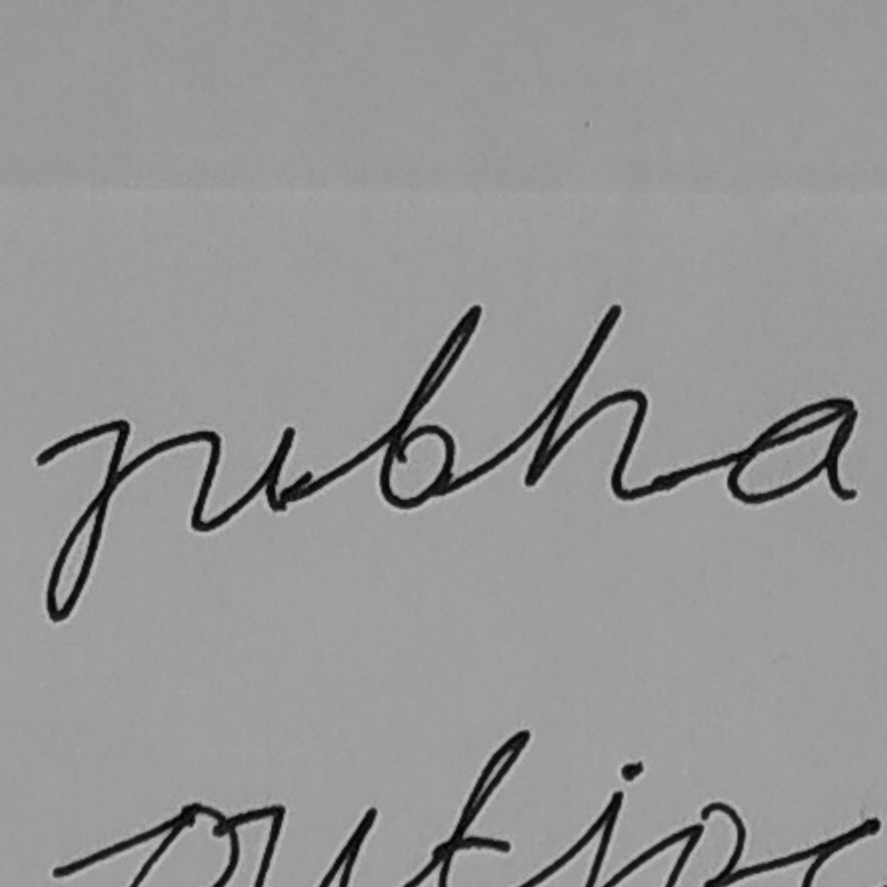a: (721, 393, 864, 512)
b: (374, 299, 485, 511)
h: (522, 300, 652, 504)
j: (33, 415, 134, 629)
u: (187, 422, 299, 535)
